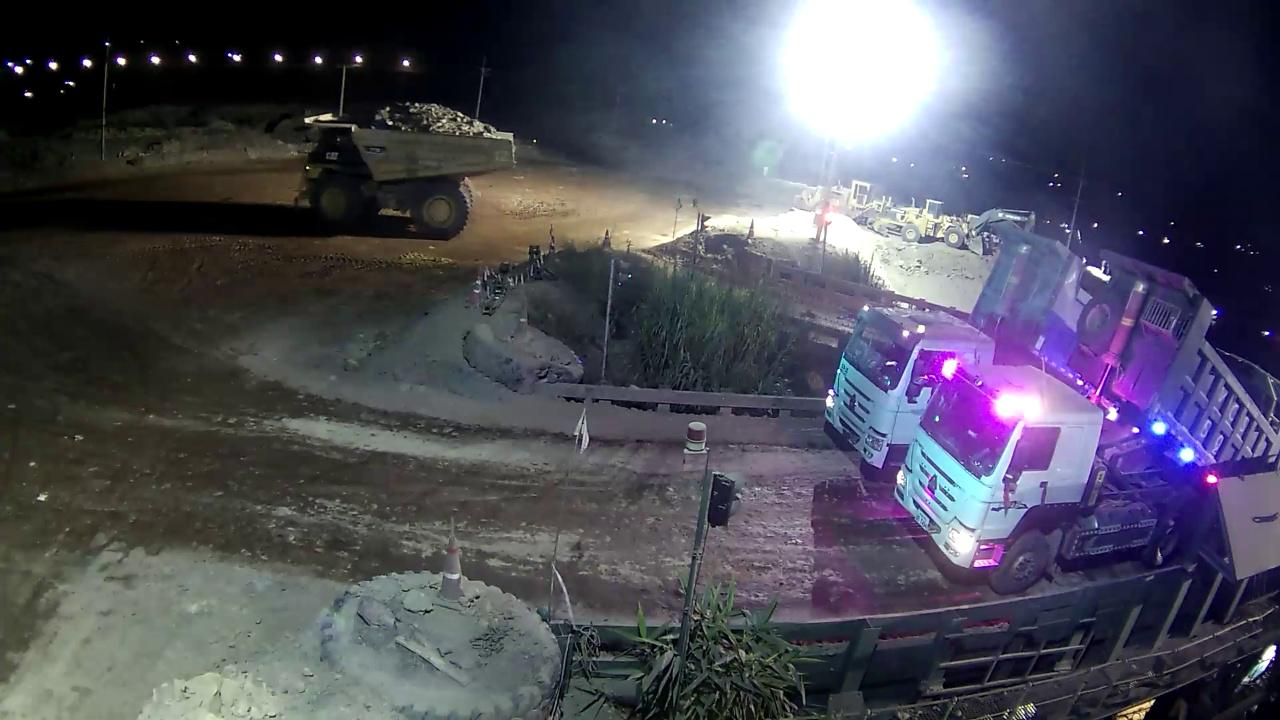full_load: (360, 94, 497, 136)
mining_truck: (284, 90, 527, 237)
tail_number: (487, 147, 514, 167)
